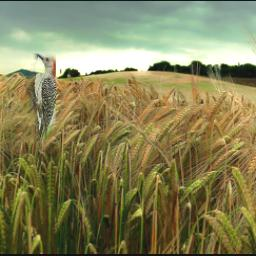Woodpecker: (26, 54, 57, 148)
